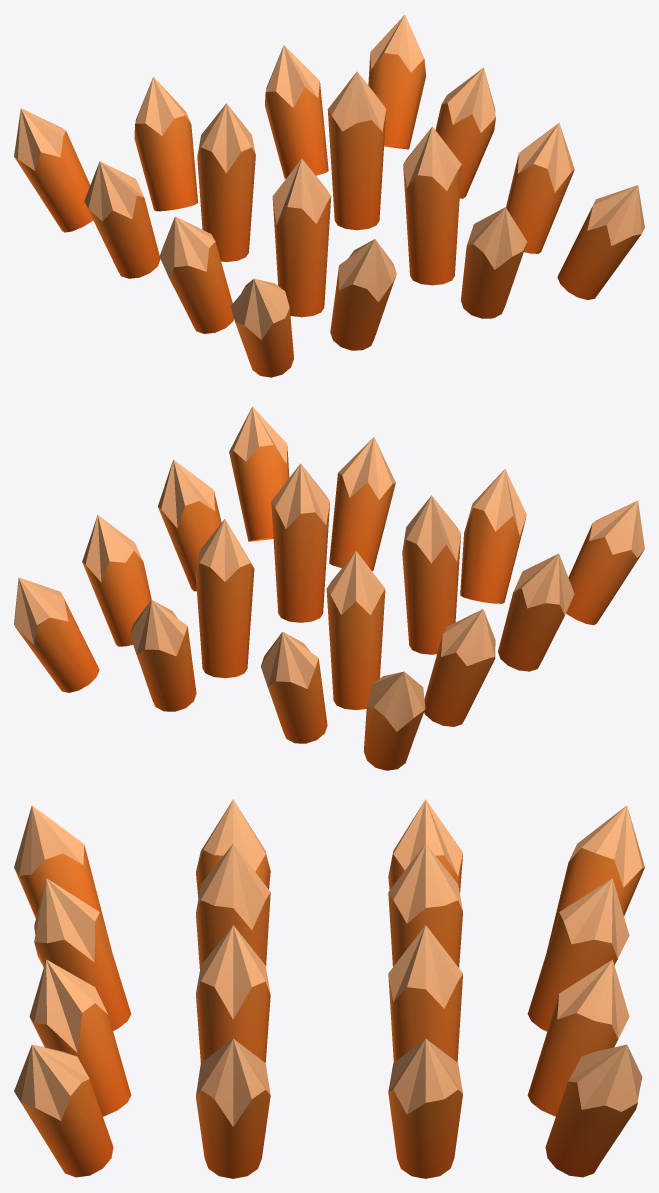
Rendered from Wooden_Spike.fbx.
3 views of the same model, one above another, from view 1: azimuth 30°, elevation 25°; view 2: azimuth 150°, elevation 25°; view 3: azimuth 270°, elevation 25° (orthographic). The views are drawn at different scales.
Visible parts, largest first — view 1: Obstacle_Wooden_Spike_01; view 2: Obstacle_Wooden_Spike_01; view 3: Obstacle_Wooden_Spike_01.
Boxes of the visible parts, <box> form: Obstacle_Wooden_Spike_01: <box>14,15,644,377</box>; Obstacle_Wooden_Spike_01: <box>14,406,644,770</box>; Obstacle_Wooden_Spike_01: <box>14,799,644,1178</box>.
Size of the model in its own units: 179 by 62.85 by 188.
1 material, 1 textured.
